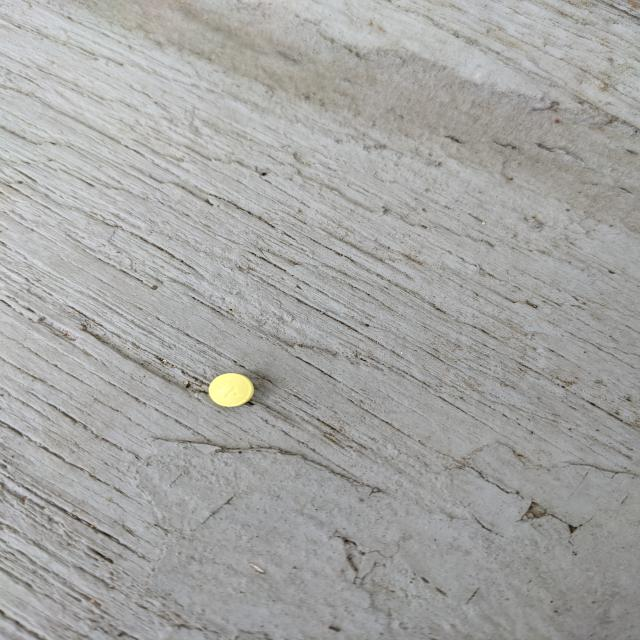non-organic waste: (207, 372, 255, 408)
